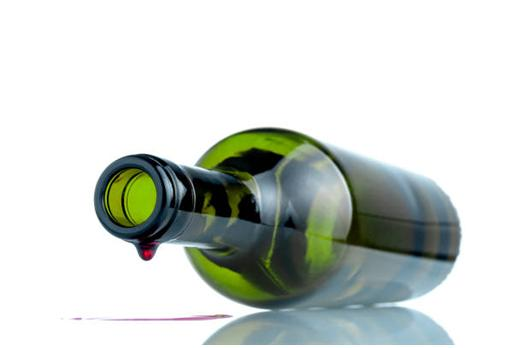alcohol: (91, 125, 463, 309)
